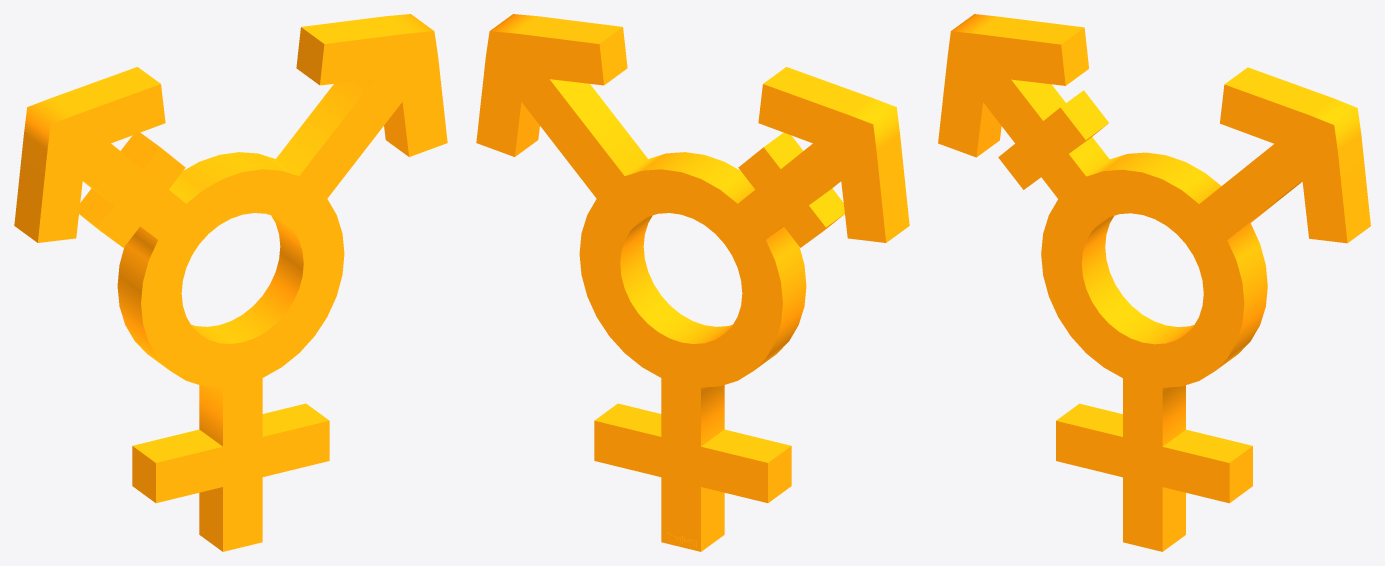
The model's file is transgender_symbol.gltf.
3 renders of one model, left to right at view 1: azimuth 30°, elevation 25°; view 2: azimuth 150°, elevation 25°; view 3: azimuth 330°, elevation 25°, orthographic.
Parts seen in each view (by area): view 1: Circle.2634; view 2: Circle.2634; view 3: Circle.2634.
Part boxes in pixels (box(x1,y1,x2,y2)): Circle.2634: box(14, 14, 447, 551); Circle.2634: box(476, 14, 909, 551); Circle.2634: box(938, 14, 1370, 551).
Bounding box in the file's own units: 1.93 × 2.18 × 0.1934.
Materials: 1 (1 with a texture image).
